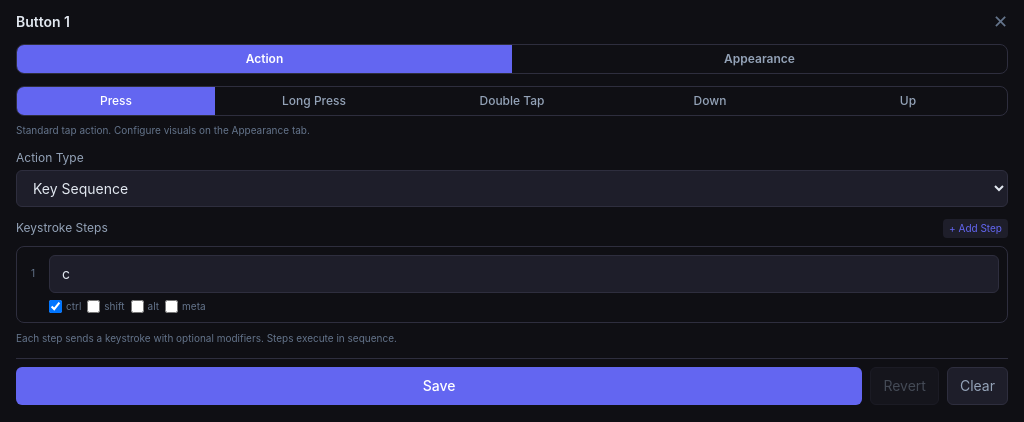
Scenario: ActionPanel › trigger tabs › should switch to Long Press tab
Click the button "Long Press".
click(314, 101)  # box [215,87,413,115]
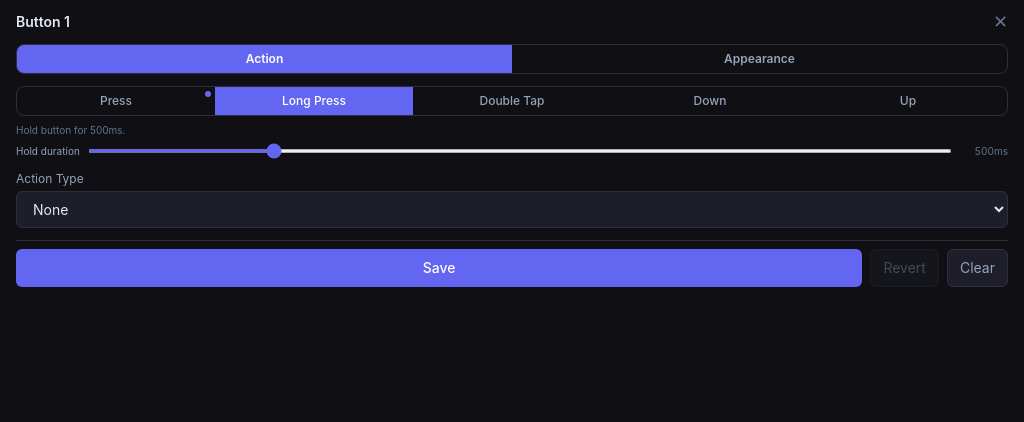
Expected: the text "Hold button for 500ms." is shown, [16,124,125,136]
